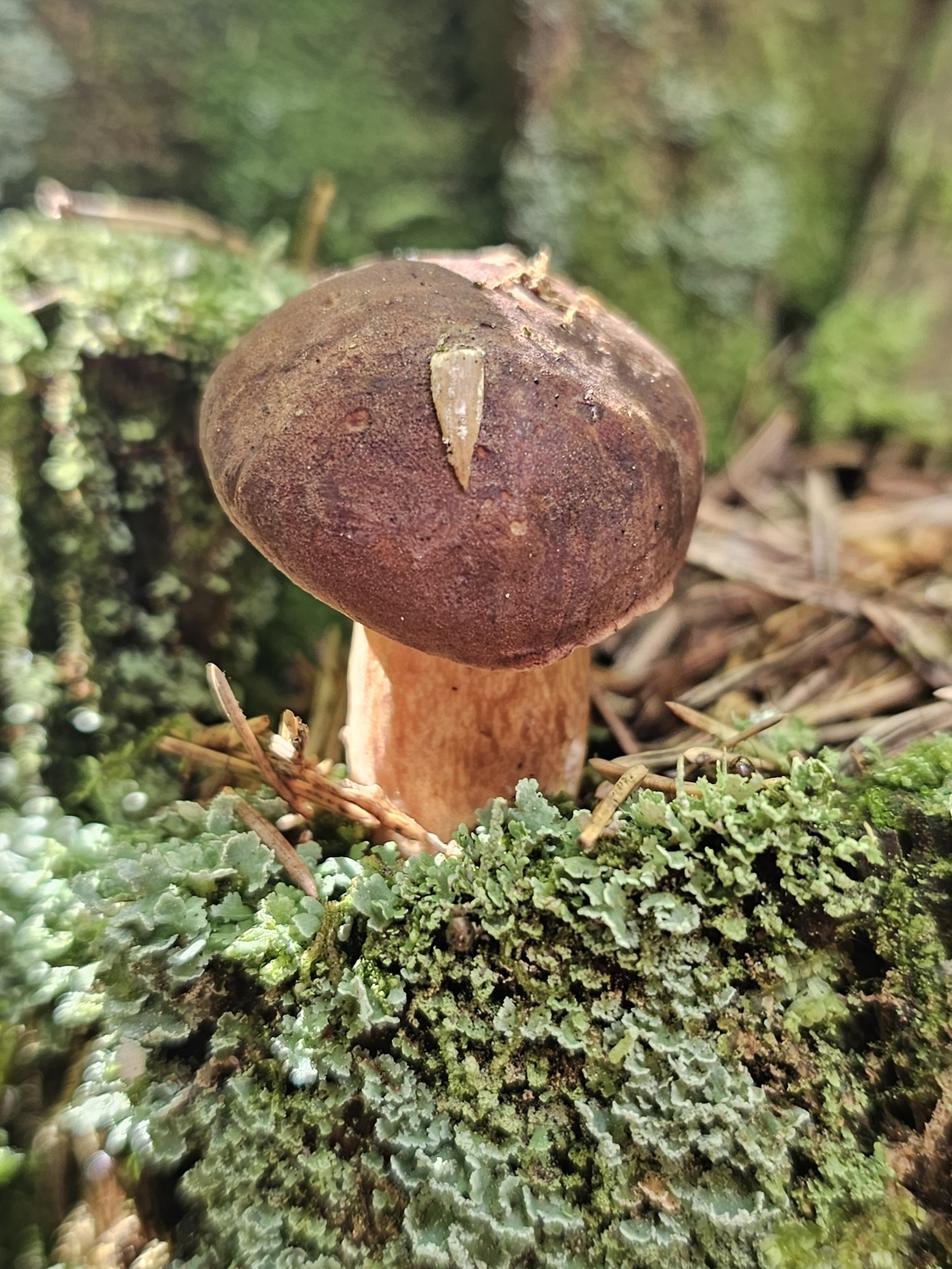cap: (200, 257, 703, 670)
stem: (345, 623, 590, 838)
